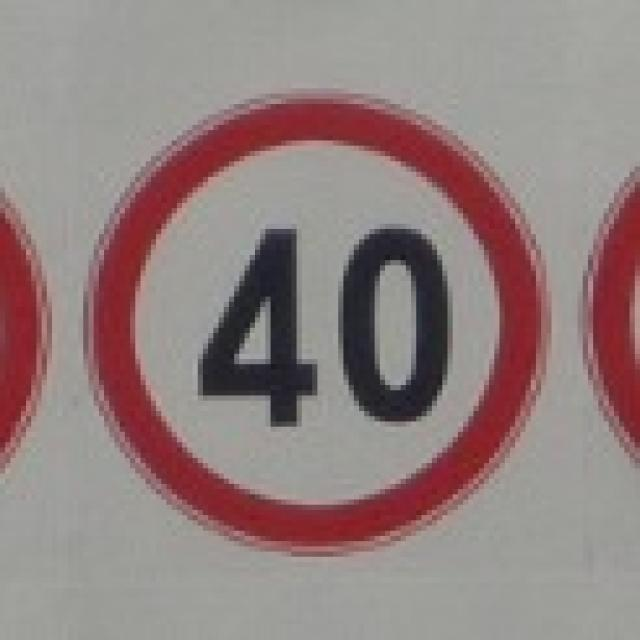Speed Limit -40-: (192, 220, 461, 435)
